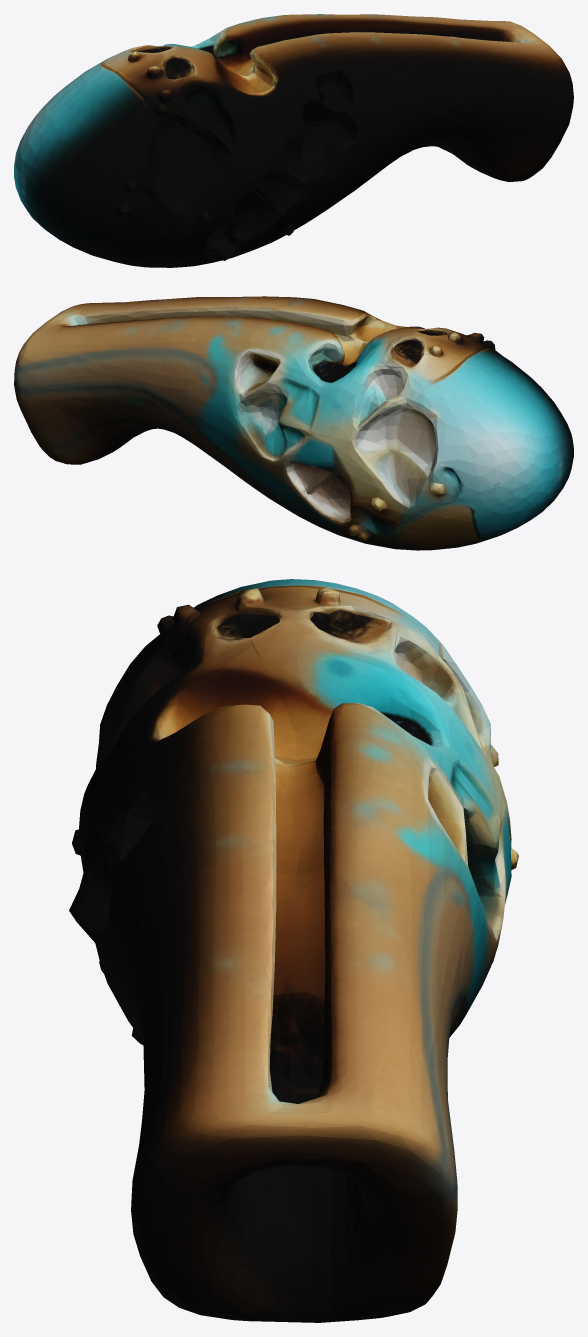
The model's file is handmade-clay-ocarina-3d.jpeg.glb.
The picture shows the model from 3 angles, top to bottom: view 1: azimuth 30°, elevation 25°; view 2: azimuth 150°, elevation 25°; view 3: azimuth 270°, elevation 25°; orthographic projection. The views are drawn at different scales.
Visible parts, largest first — view 1: world; view 2: world; view 3: world.
Boxes of the visible parts, x1,y1,x2,y2 form: world: [14, 14, 573, 267]; world: [14, 296, 573, 550]; world: [69, 579, 518, 1322].
Size of the model in its own units: 1 by 0.3906 by 0.3784.
Materials: 1 (1 with a texture image).
